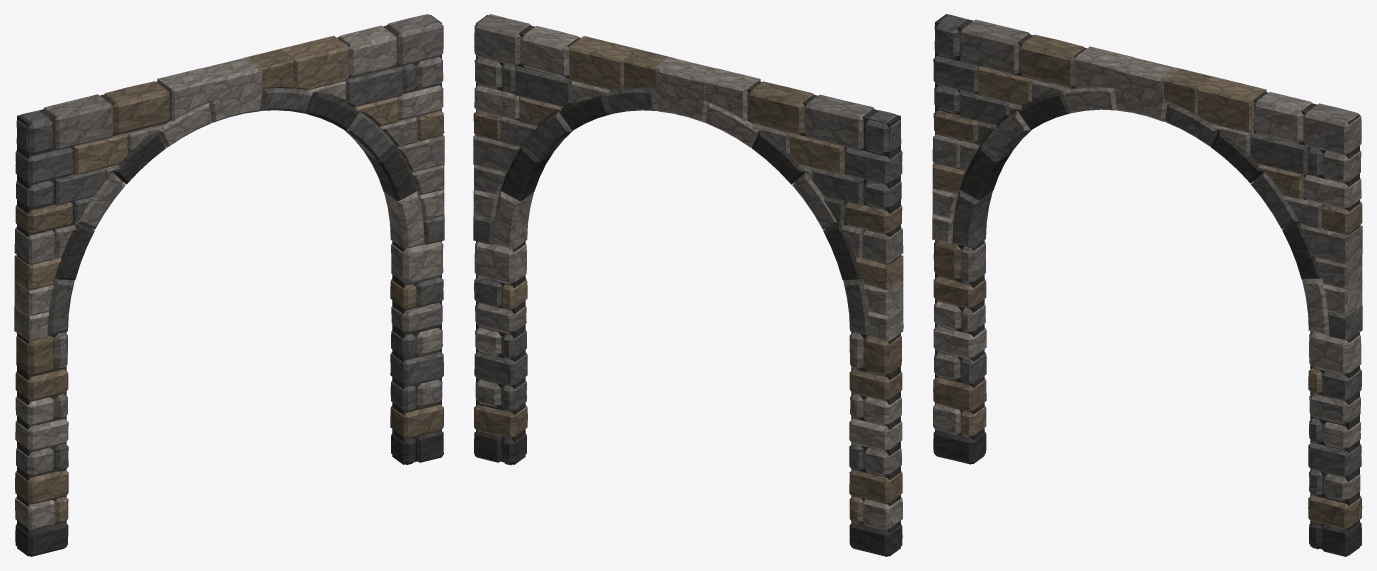
The model's file is gateway__cut_stone.glb.
3 views of the same model, side by side, from view 1: azimuth 30°, elevation 25°; view 2: azimuth 150°, elevation 25°; view 3: azimuth 330°, elevation 25° (orthographic).
Visible parts, largest first — view 1: model; view 2: model; view 3: model.
Boxes of the visible parts, x1=… form: model: x1=14, y1=14, x2=444, y2=556; model: x1=473, y1=14, x2=903, y2=556; model: x1=932, y1=14, x2=1362, y2=556.
Size of the model in its own units: 3.99 by 3.98 by 0.2831.
Materials: 6 (6 with a texture image).
